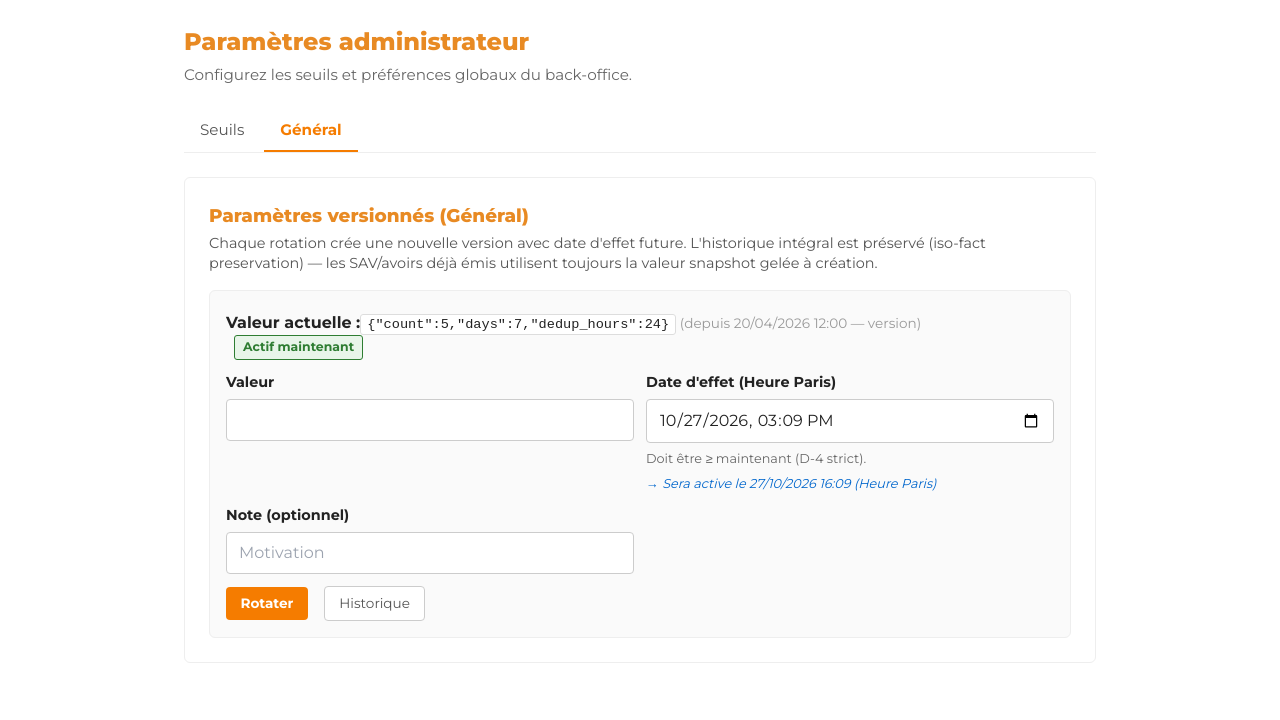
Scenario: SettingsAdminView — Story 7-4 onglet Général (UI) › AC #5 D-5 régression : onglet "Seuils" Story 5.5 reste accessible quand on navigue vers ?tab=thresholds
Click the tab with class "tab" showing "Seuils": (222, 131) [184,111,260,152]
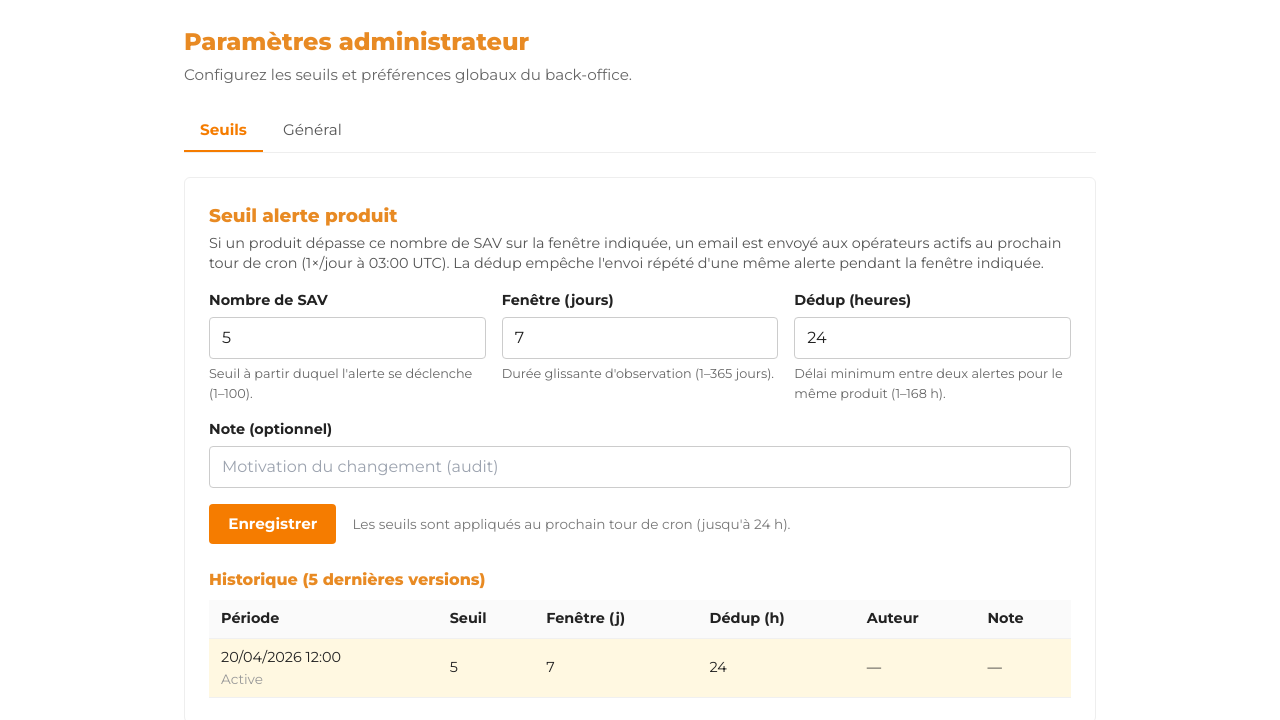
Now the number field with id "threshold-count" is shown, box [209,317,486,359]
Now the number field with id "threshold-days" is shown, box [502,317,778,359]
Now the number field with id "threshold-dedup" is shown, box [794,317,1071,359]
